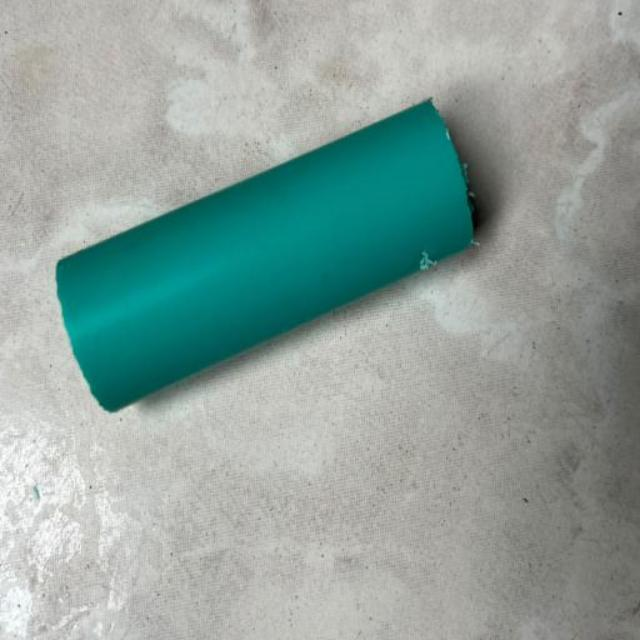PVC: (34, 91, 522, 440)
